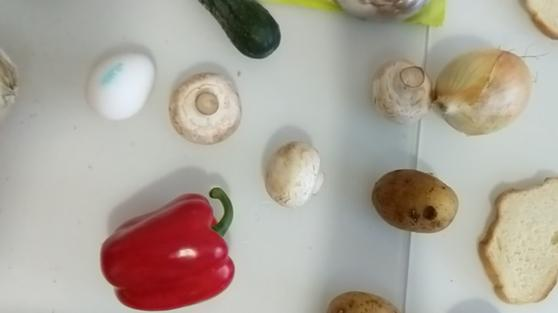champignon: (167, 69, 246, 149), (368, 56, 435, 127), (267, 138, 331, 209)
cucumber: (208, 1, 286, 62)
egg: (86, 50, 151, 123)
onion: (438, 42, 539, 140)
pepper: (99, 184, 238, 312)
potato: (371, 166, 459, 234)
white_bread: (481, 176, 558, 305)
